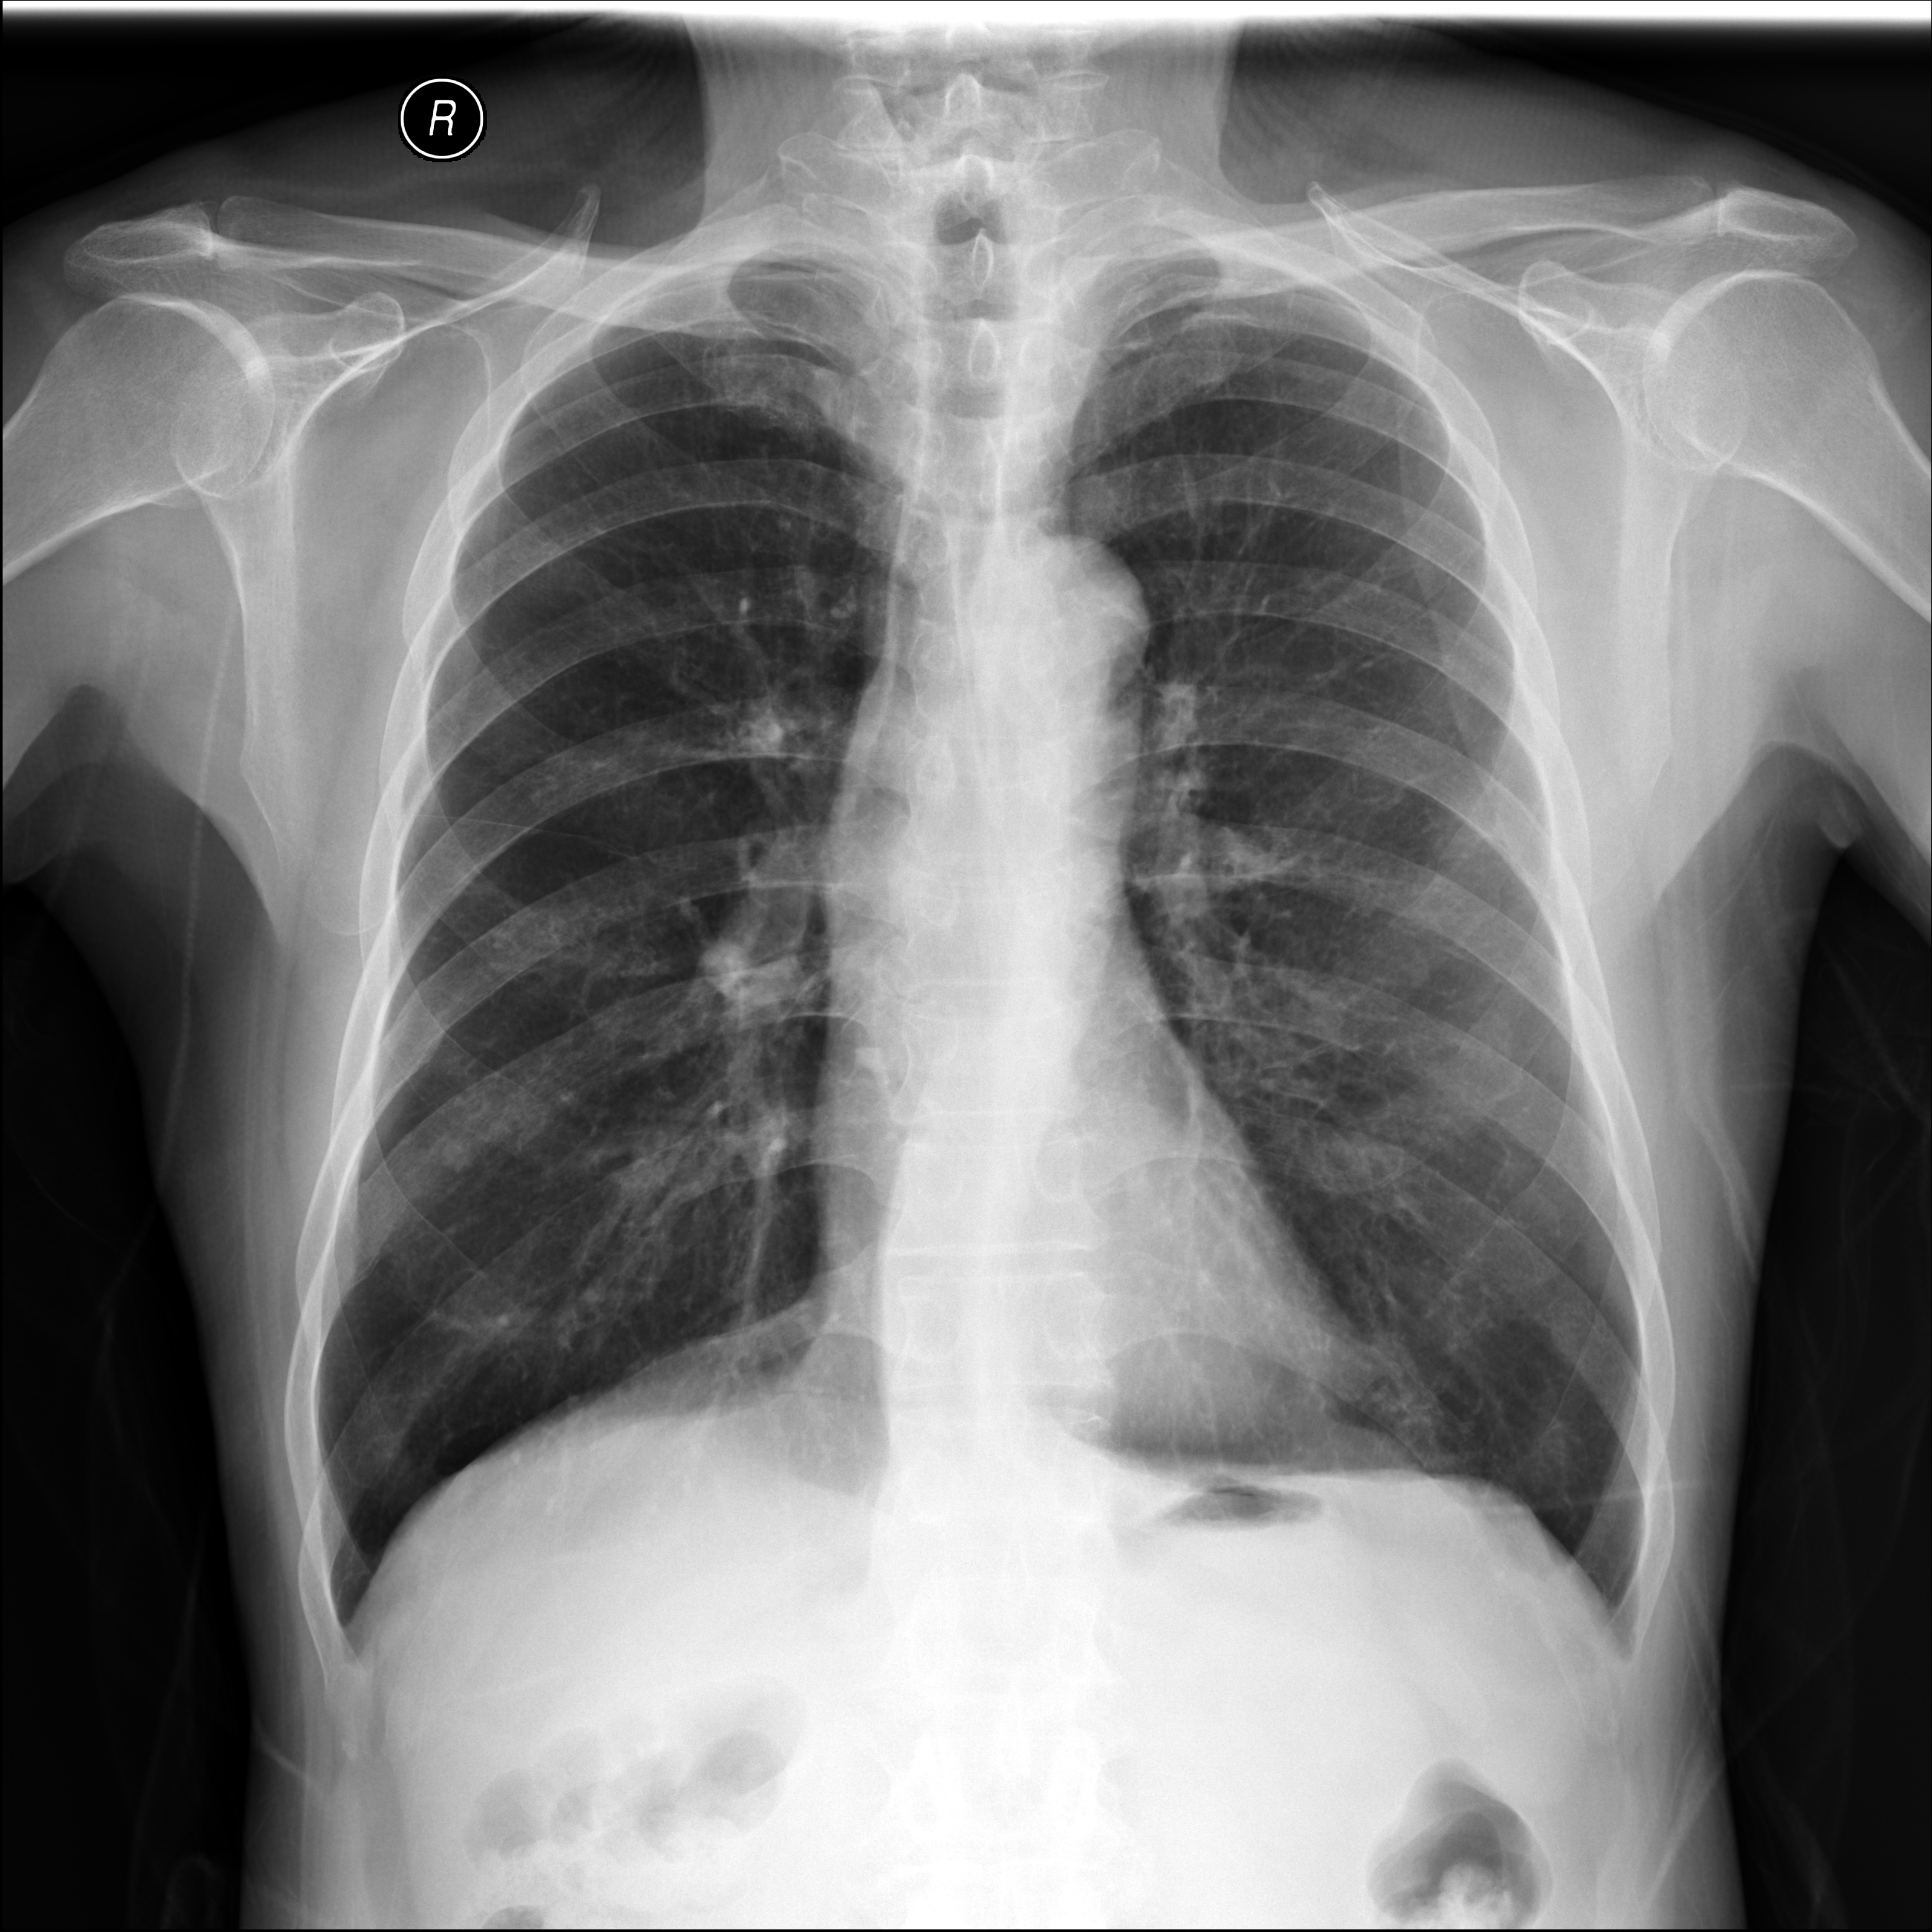nodule: (410, 1104, 510, 1210)
